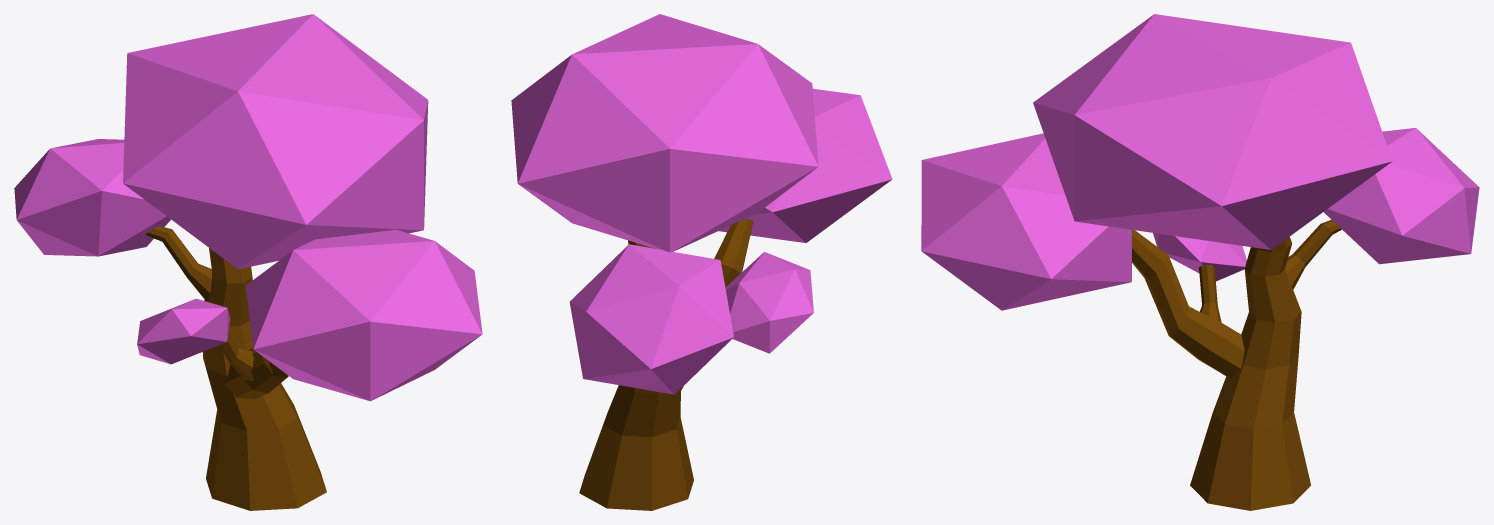
File: TT_Japanese_Blossom_tree.fbx
The picture shows the model from 3 angles, left to right: view 1: azimuth 30°, elevation 25°; view 2: azimuth 150°, elevation 25°; view 3: azimuth 270°, elevation 25°; orthographic projection. The views are drawn at different scales.
Parts seen in each view (by area): view 1: Blossom_Tree; view 2: Blossom_Tree; view 3: Blossom_Tree.
Part boxes in pixels (box(x1,y1,x2,y2)): Blossom_Tree: box(14, 14, 482, 510); Blossom_Tree: box(511, 14, 892, 510); Blossom_Tree: box(921, 14, 1479, 510).
Size of the model in its own units: 404 by 537 by 626.
